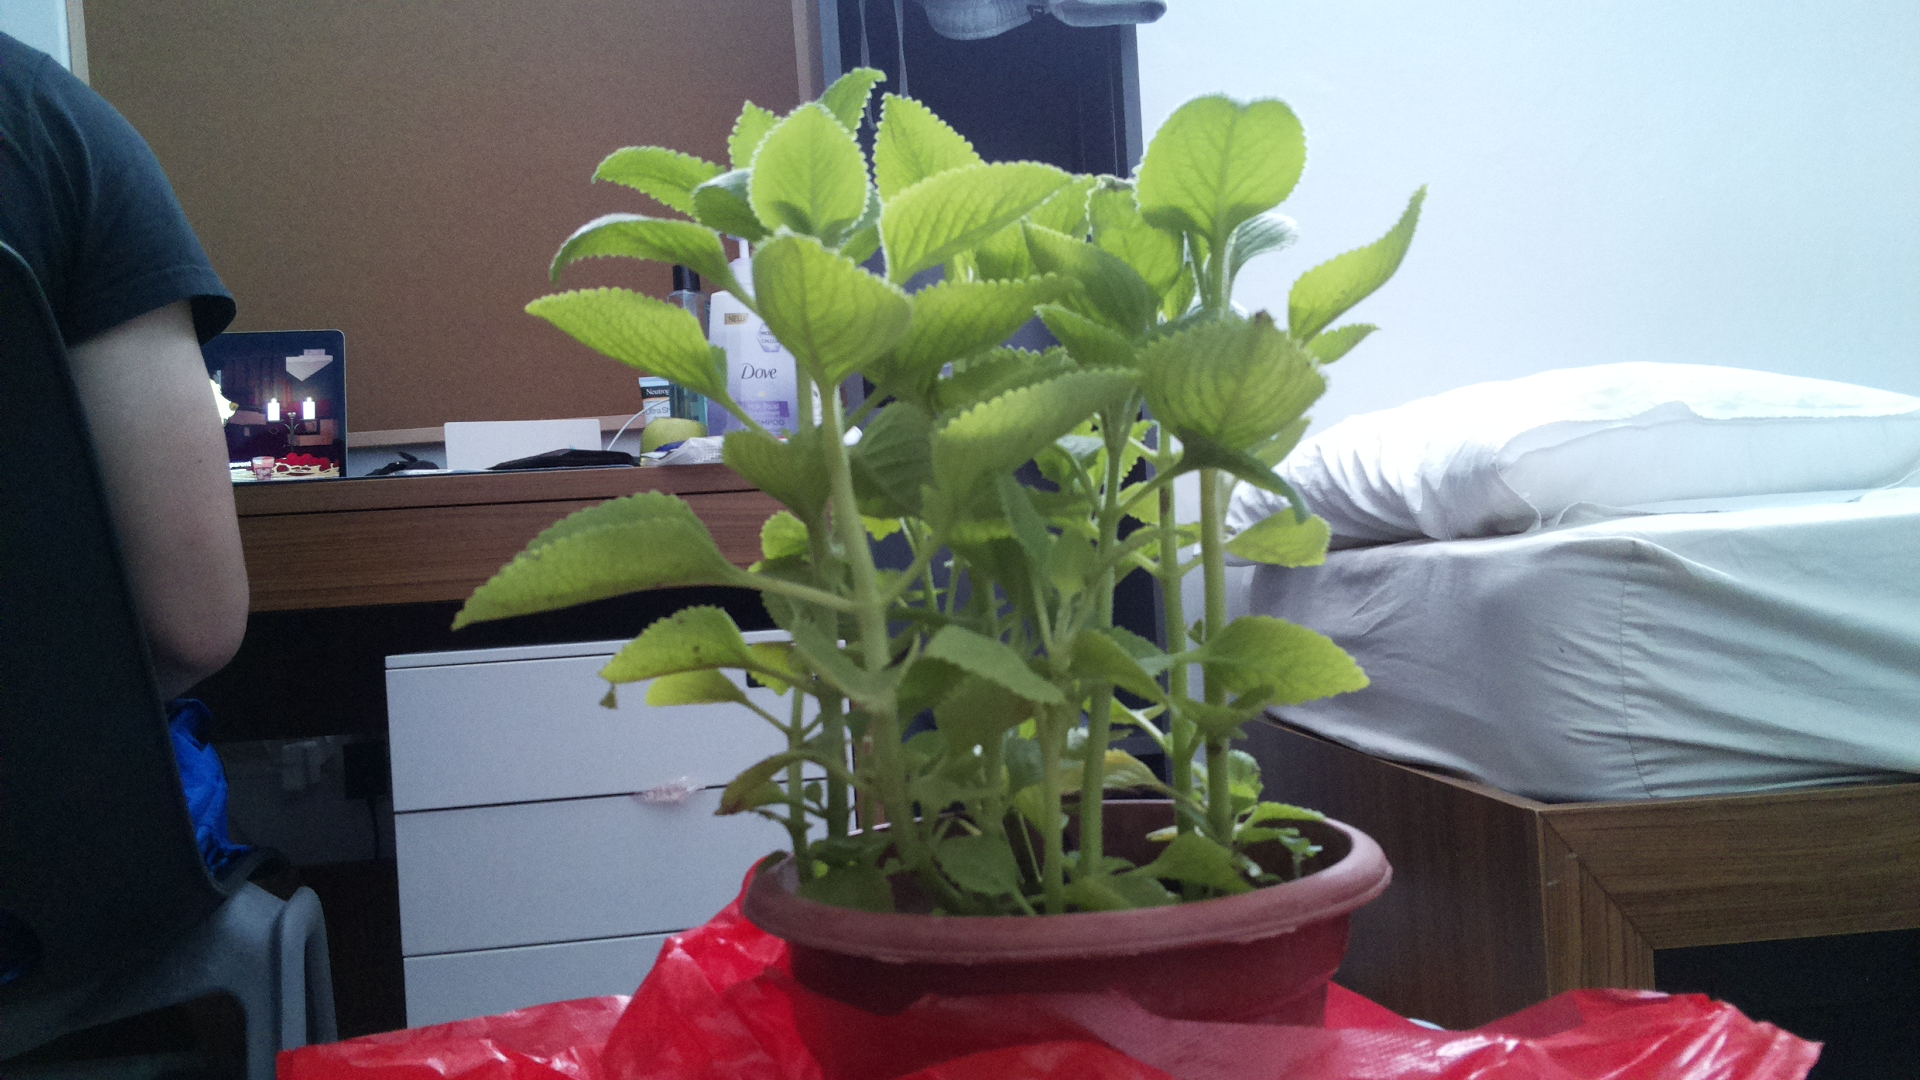leaf: (472, 487, 723, 641), (935, 347, 1147, 513), (855, 152, 1102, 286), (1156, 298, 1328, 446), (1294, 173, 1444, 334), (520, 282, 731, 392), (756, 233, 909, 382), (1147, 102, 1304, 243), (748, 102, 881, 241), (1192, 617, 1373, 705), (597, 605, 760, 694), (916, 629, 1063, 713)
